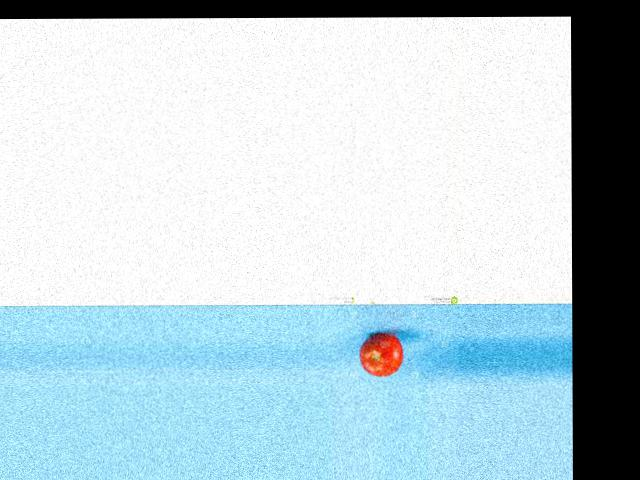tomato: (358, 333, 403, 376)
